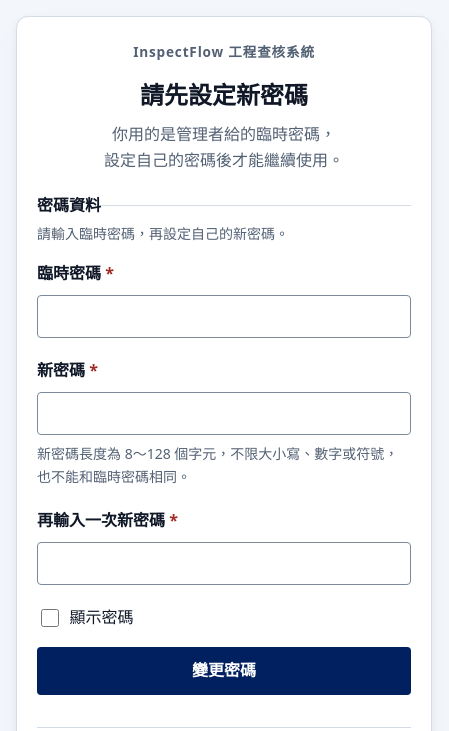
it: 變更密碼頁：外部帳號與未知錯誤（補充，非 AUT-AC42 條列範圍） › 外部帳號（403 permission.denied）顯示對應訊息
The image size is (449, 731).
Expected: the heading "請先設定新密碼" is shown, [140,78,308,111]
Expected: the text "你用的是管理者給的臨時密碼，設定自己的密碼後才能繼續使用。" is shown, [104,123,344,170]
Type "current-pw" into the password field labelled "臨時密碼" at (224, 316), box [37,295,411,338]
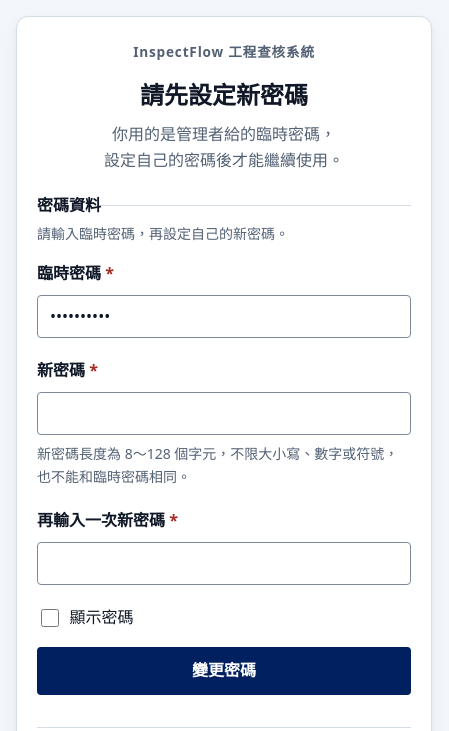
Type "new-password" into the password field labelled "新密碼" at (224, 414), box [37,392,411,436]
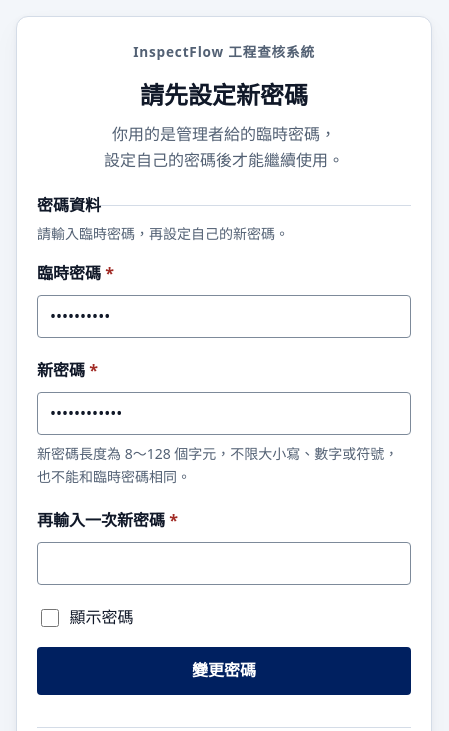
Type "new-password" into the password field labelled "再輸入一次新密碼" at (224, 564), box [37,542,411,586]
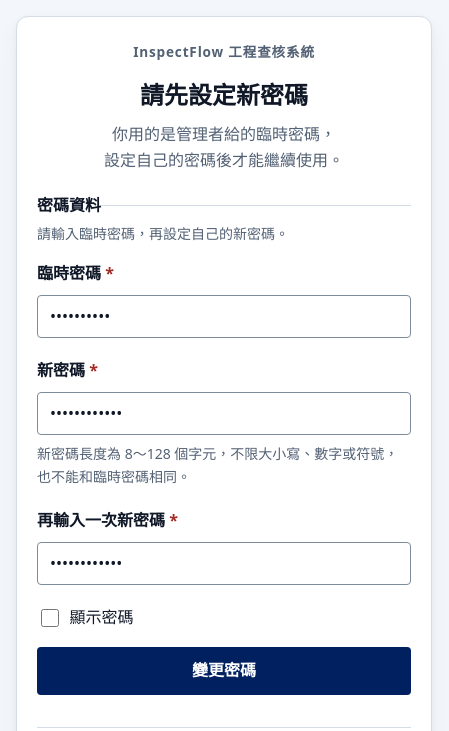
Click the button "變更密碼" at (224, 671), box [37,647,411,695]
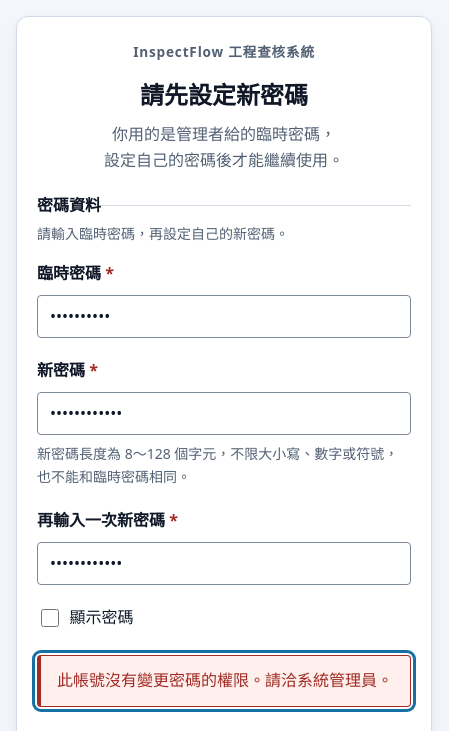
Now the message reads "此帳號沒有變更密碼的權限。請洽系統管理員。", box [57,669,393,691]
